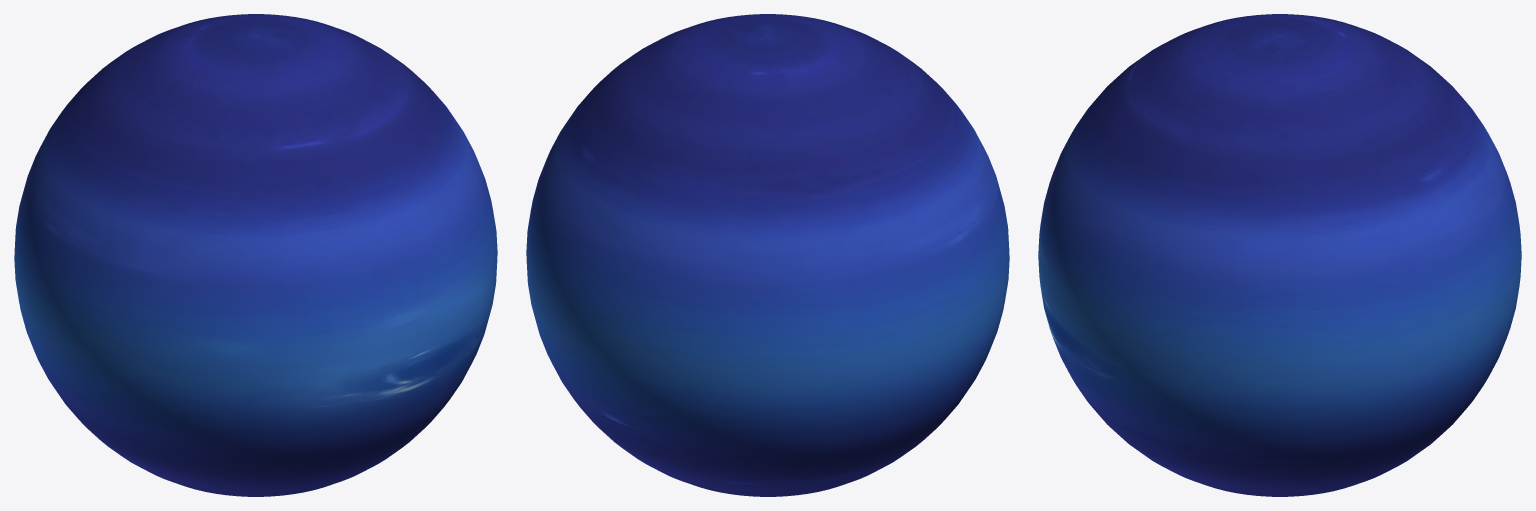
File: neptune-transformed.glb
3 views of the same model, side by side, from view 1: azimuth 30°, elevation 25°; view 2: azimuth 150°, elevation 25°; view 3: azimuth 270°, elevation 25° (orthographic).
Parts seen in each view (by area): view 1: Atmosfera; view 2: Atmosfera; view 3: Atmosfera.
Boxes of the visible parts, box(x1,y1,x2,y2) form: Atmosfera: box(14, 14, 497, 496); Atmosfera: box(526, 14, 1009, 496); Atmosfera: box(1038, 14, 1521, 496).
Size of the model in its own units: 20.1 by 20.1 by 20.1.
Materials: 2 (2 with a texture image).
